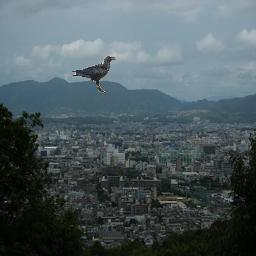Crow: (72, 56, 116, 93)
